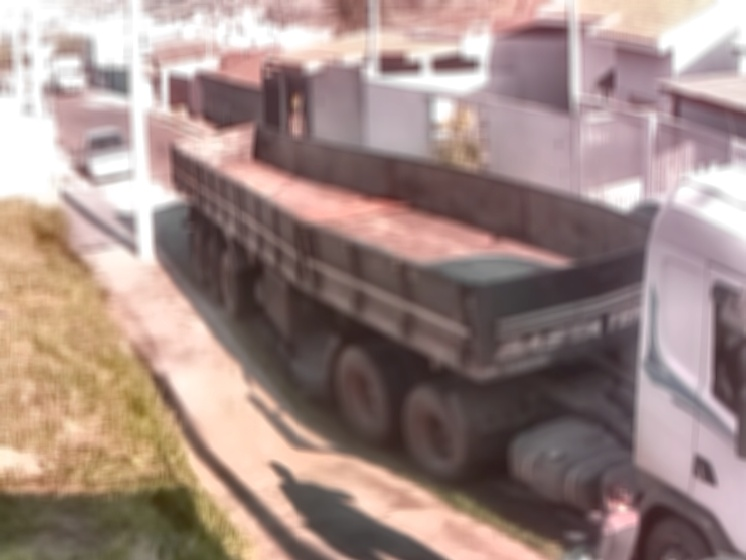person: (540, 482, 642, 560)
